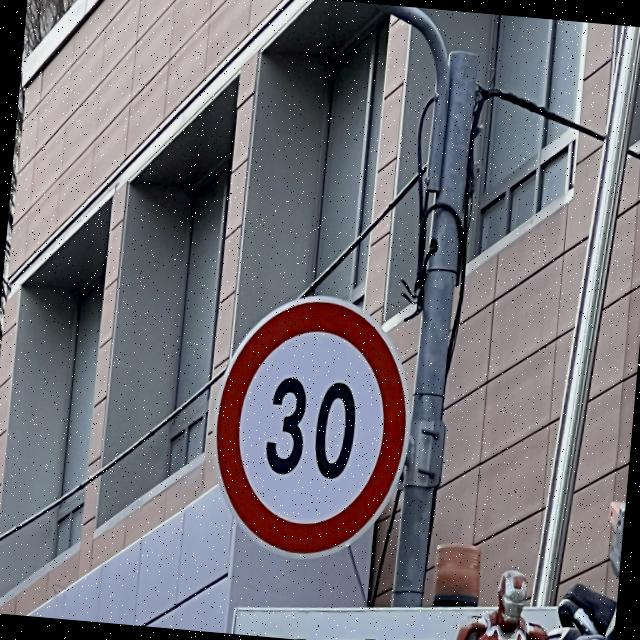Ograniczenie predkosci do 30: (204, 290, 415, 566)
